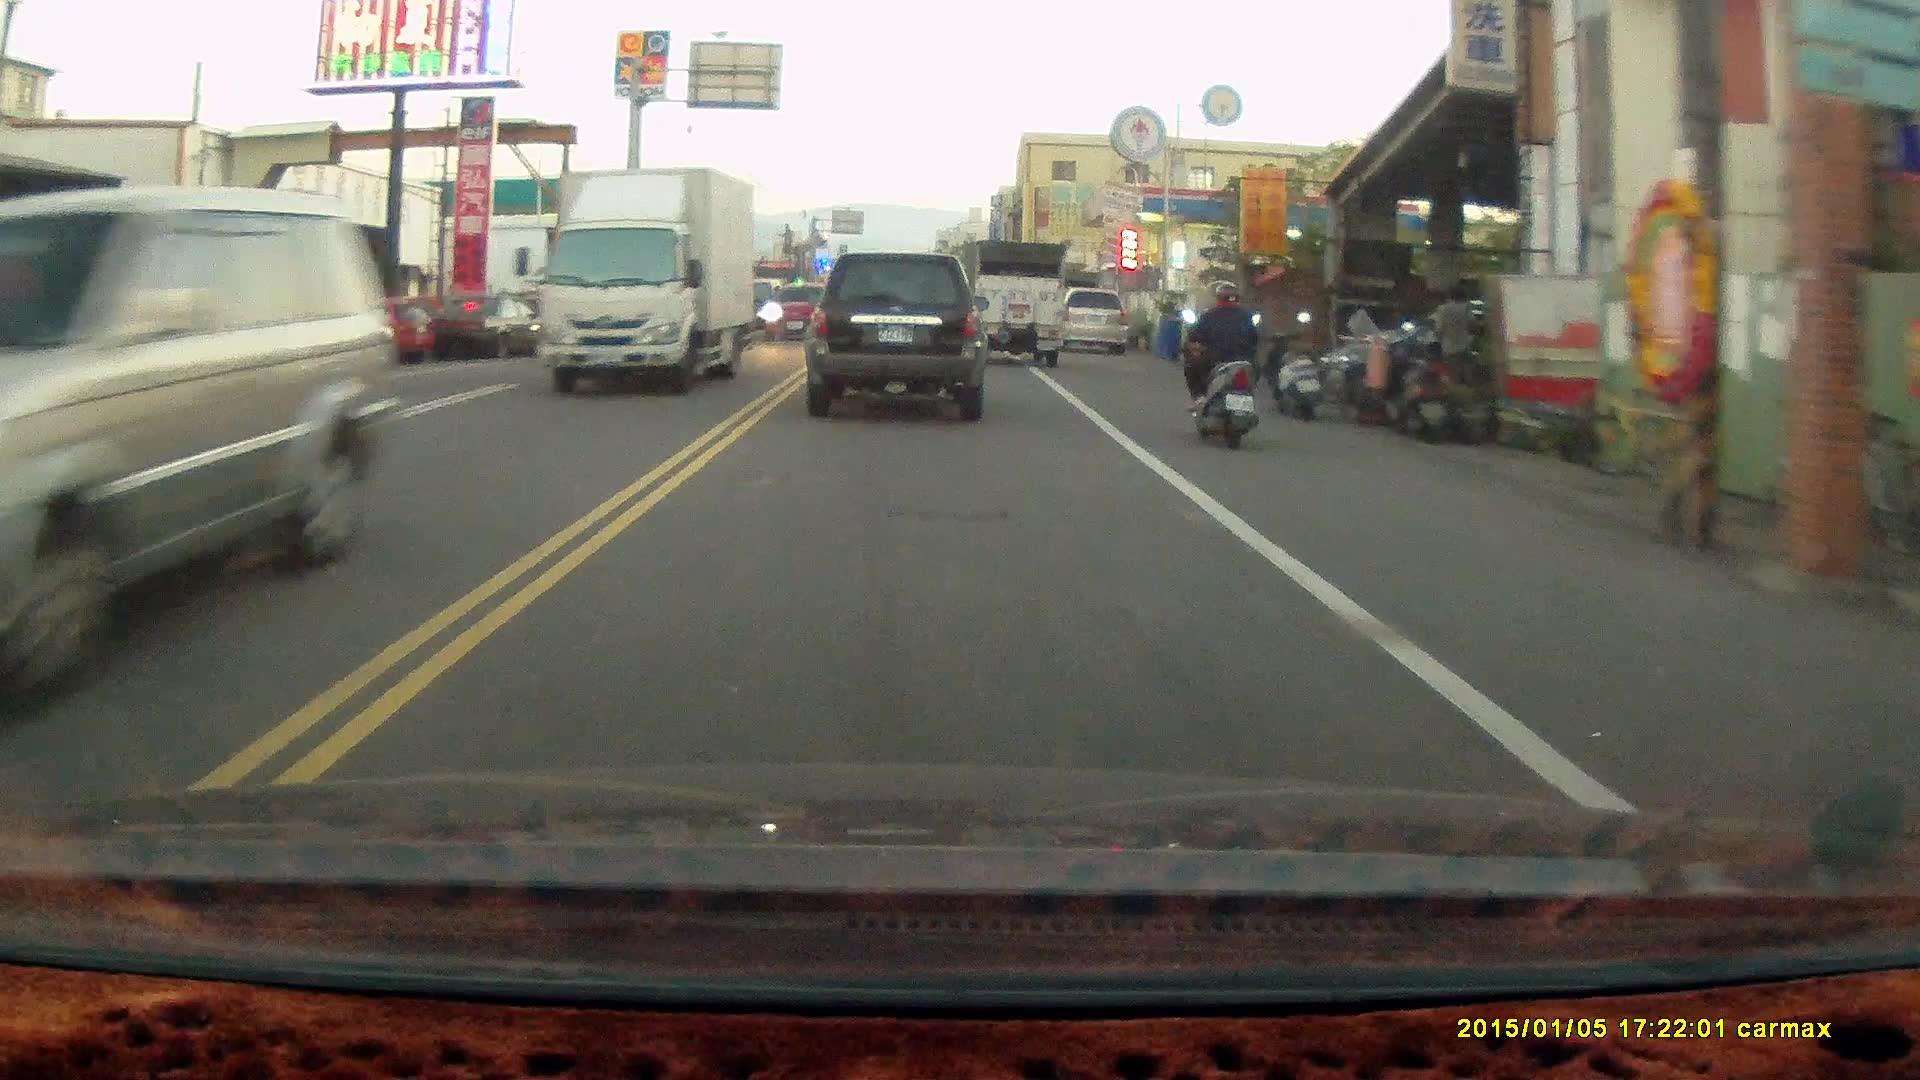pedestrian: (1430, 285, 1477, 415)
rider: (1177, 279, 1264, 451)
vehicle: (1, 185, 435, 645), (537, 165, 761, 398), (801, 250, 989, 424), (973, 237, 1066, 365), (1054, 286, 1130, 356)
